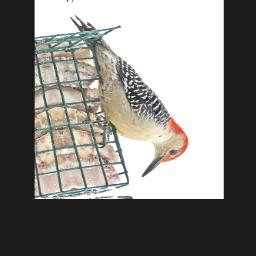Woodpecker: (68, 0, 195, 186)
